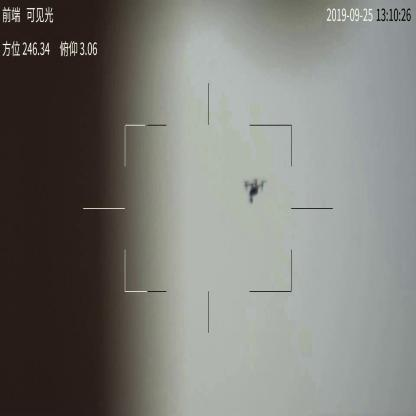uav: (242, 175, 268, 204)
